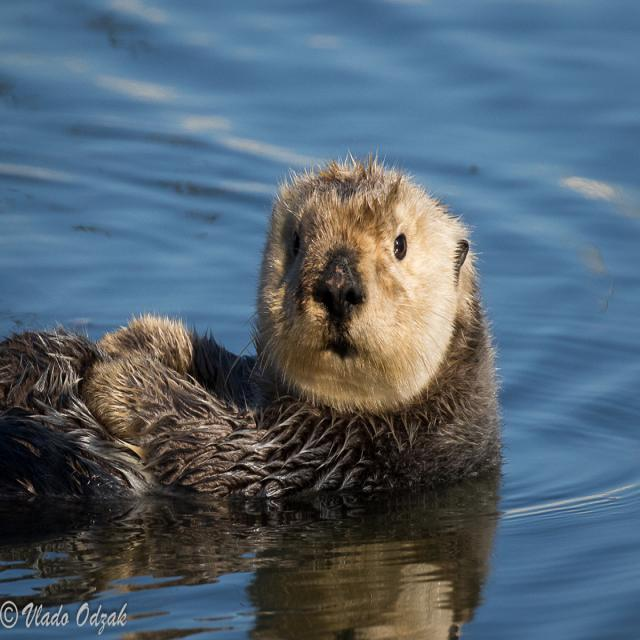otter: (1, 167, 499, 498)
